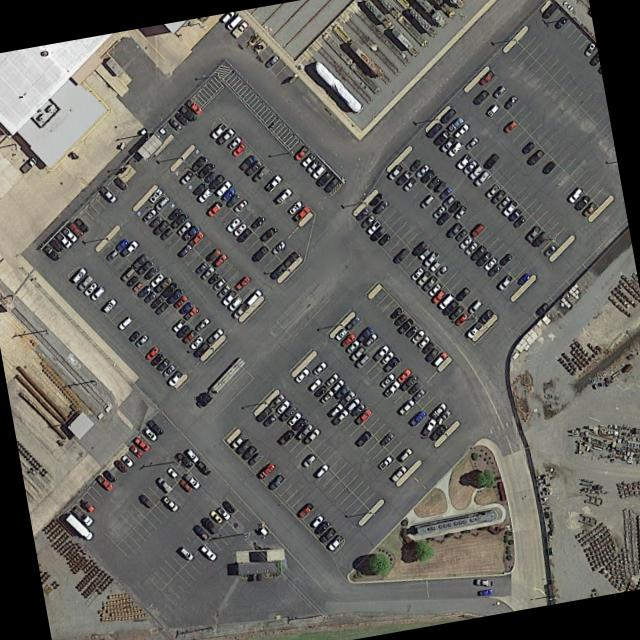large-vehicle: (196, 356, 246, 408), (66, 512, 93, 539), (70, 504, 93, 526)
small-vehicle: (18, 152, 38, 174), (200, 515, 219, 534), (99, 183, 117, 203), (530, 229, 549, 247), (469, 242, 487, 260), (235, 436, 253, 454), (175, 450, 193, 468), (121, 238, 139, 256), (433, 128, 451, 146), (245, 287, 263, 305), (60, 224, 78, 242), (55, 230, 73, 248), (527, 147, 545, 165), (430, 421, 447, 439), (438, 291, 455, 309), (442, 298, 460, 315), (466, 320, 483, 338), (192, 522, 209, 540), (146, 418, 164, 435), (332, 407, 349, 425), (355, 406, 372, 424), (303, 426, 321, 443), (155, 274, 172, 292), (540, 1, 558, 18), (193, 340, 211, 357), (167, 368, 184, 386), (447, 139, 464, 157), (384, 378, 400, 397), (232, 18, 248, 37), (398, 397, 415, 414), (384, 354, 401, 371), (430, 401, 447, 418), (497, 273, 514, 290), (475, 249, 492, 266), (373, 343, 390, 360), (327, 533, 344, 550), (297, 501, 314, 518), (96, 473, 113, 490), (255, 405, 272, 422), (390, 464, 407, 481), (66, 220, 83, 237), (161, 280, 178, 297), (167, 286, 184, 303), (207, 326, 224, 343), (574, 193, 591, 210), (479, 68, 496, 85), (525, 224, 542, 241), (456, 151, 473, 168), (502, 198, 519, 215), (252, 244, 269, 261), (208, 172, 225, 189), (316, 169, 333, 186), (323, 175, 340, 192), (293, 204, 310, 221), (275, 186, 292, 203), (265, 173, 282, 190), (217, 126, 234, 143), (185, 97, 202, 114), (191, 153, 207, 171), (393, 246, 409, 263), (411, 239, 428, 255), (423, 249, 439, 266), (397, 316, 414, 332), (422, 273, 438, 290), (446, 221, 462, 238), (478, 307, 494, 324), (200, 543, 216, 560), (258, 461, 275, 477), (138, 491, 154, 508), (162, 494, 178, 511), (319, 526, 336, 542), (356, 429, 372, 446), (339, 388, 355, 405), (279, 427, 295, 444), (291, 414, 307, 431), (297, 421, 313, 438), (441, 106, 457, 123), (222, 288, 238, 305), (172, 210, 188, 227), (183, 223, 199, 240), (43, 243, 59, 260), (283, 249, 299, 266), (270, 262, 287, 278), (568, 185, 584, 202), (447, 115, 464, 131), (440, 135, 457, 151), (484, 151, 500, 168), (474, 169, 490, 186), (226, 12, 242, 29), (207, 199, 223, 216), (198, 160, 214, 177), (216, 178, 232, 195), (180, 104, 196, 121), (246, 158, 262, 175), (240, 153, 256, 170), (211, 121, 227, 138), (424, 345, 440, 361), (426, 121, 442, 137), (401, 373, 417, 389), (396, 168, 412, 184), (231, 431, 247, 447), (241, 443, 257, 459), (314, 518, 330, 534), (195, 459, 211, 475), (185, 472, 201, 488), (134, 435, 150, 451), (156, 476, 172, 492), (357, 325, 373, 341), (350, 344, 366, 360), (269, 392, 285, 408), (280, 404, 296, 420), (312, 359, 328, 375), (132, 252, 148, 268), (153, 218, 169, 234), (232, 302, 248, 318), (73, 216, 89, 232), (89, 284, 105, 300), (77, 273, 93, 289), (149, 293, 165, 309), (582, 200, 598, 216), (473, 88, 489, 104), (462, 158, 478, 174), (469, 163, 485, 179), (491, 187, 507, 203), (197, 186, 213, 202), (261, 224, 277, 240), (369, 225, 386, 240), (373, 197, 388, 214), (396, 366, 411, 383), (410, 408, 425, 425), (436, 407, 451, 424), (269, 472, 284, 489), (388, 162, 403, 179), (189, 229, 204, 246), (503, 92, 518, 109), (253, 164, 268, 181), (422, 417, 436, 435), (360, 212, 375, 228), (366, 218, 381, 234), (420, 167, 435, 183), (455, 285, 471, 300), (449, 304, 465, 319), (467, 298, 483, 313), (379, 430, 394, 446), (295, 366, 310, 382), (154, 194, 169, 210), (112, 175, 128, 190), (235, 274, 250, 290), (228, 294, 243, 310), (177, 219, 192, 235), (149, 271, 164, 287), (118, 313, 133, 329), (182, 327, 197, 343), (189, 333, 204, 349), (294, 144, 309, 160), (454, 121, 469, 137), (306, 157, 321, 173), (226, 215, 241, 231), (237, 226, 252, 242), (433, 350, 448, 365), (410, 328, 425, 343), (380, 372, 395, 387), (435, 210, 450, 225), (420, 192, 435, 207), (431, 288, 446, 303), (463, 239, 478, 254), (453, 311, 468, 326), (535, 300, 550, 315), (179, 545, 194, 560), (184, 447, 199, 462), (113, 457, 128, 472), (178, 477, 193, 492), (355, 352, 370, 367), (378, 454, 393, 469), (350, 401, 365, 416), (340, 331, 355, 346), (345, 338, 360, 353), (335, 383, 350, 398), (276, 398, 291, 413), (287, 410, 302, 425), (137, 282, 152, 297), (83, 280, 98, 295), (156, 356, 171, 371), (176, 322, 191, 337), (195, 315, 210, 330), (271, 239, 286, 254), (264, 53, 279, 68), (464, 135, 479, 150), (496, 194, 511, 209), (507, 206, 522, 221), (301, 151, 316, 166), (179, 169, 194, 184), (417, 268, 431, 284), (459, 233, 473, 249), (329, 401, 343, 417), (149, 186, 163, 202), (138, 258, 152, 274), (144, 264, 158, 280), (72, 266, 86, 282), (145, 344, 159, 360), (312, 162, 326, 178), (288, 198, 302, 214), (390, 304, 404, 319), (438, 184, 452, 199), (454, 203, 468, 218), (415, 162, 429, 177), (403, 175, 417, 190), (470, 222, 484, 237), (498, 251, 512, 266), (363, 331, 377, 346), (209, 508, 223, 523), (221, 498, 235, 513), (247, 451, 262, 465), (80, 497, 95, 511), (346, 395, 360, 410), (262, 412, 277, 426), (399, 446, 413, 461), (346, 314, 360, 329), (320, 388, 334, 403), (302, 452, 316, 467), (315, 462, 329, 477), (121, 265, 135, 280), (159, 226, 174, 240), (167, 205, 181, 220), (216, 283, 231, 297), (201, 264, 215, 279), (178, 242, 192, 257), (49, 237, 63, 252), (150, 351, 164, 366), (154, 300, 169, 314), (174, 293, 188, 308), (184, 305, 199, 319), (172, 317, 187, 331), (542, 159, 556, 174), (486, 182, 500, 197), (193, 180, 207, 195), (221, 186, 235, 201), (233, 198, 248, 212), (174, 110, 188, 125), (231, 141, 245, 156), (369, 191, 383, 205), (427, 281, 441, 295), (447, 198, 461, 212), (442, 192, 456, 206), (427, 174, 441, 188), (517, 271, 531, 285), (486, 262, 500, 276), (381, 349, 395, 363), (217, 505, 231, 519), (102, 468, 116, 482), (313, 383, 327, 397), (325, 371, 339, 385), (103, 297, 117, 311), (135, 332, 149, 346), (179, 300, 193, 314), (521, 140, 535, 154), (486, 102, 500, 116), (513, 213, 527, 227), (233, 221, 247, 235), (251, 214, 265, 228), (168, 116, 182, 130), (128, 443, 143, 456), (331, 377, 344, 392), (309, 376, 322, 391), (162, 362, 175, 377), (355, 206, 369, 219), (410, 266, 424, 279), (418, 246, 431, 260), (412, 386, 425, 400), (455, 227, 468, 241), (432, 204, 446, 217), (484, 255, 497, 269), (311, 513, 324, 527), (144, 426, 157, 440), (335, 326, 348, 340), (143, 207, 156, 221), (115, 236, 128, 250), (207, 270, 220, 284), (212, 276, 225, 290), (214, 252, 228, 265), (208, 246, 221, 260), (203, 170, 217, 183), (226, 192, 239, 206), (228, 135, 242, 148), (378, 232, 391, 245), (417, 334, 430, 347), (421, 340, 434, 353), (408, 380, 421, 393), (405, 324, 418, 337), (435, 263, 448, 276), (149, 214, 162, 227), (126, 273, 139, 286), (195, 260, 208, 273), (144, 289, 157, 302), (503, 119, 516, 132), (493, 84, 506, 97), (543, 243, 556, 256), (409, 157, 421, 171), (394, 312, 406, 325), (121, 453, 133, 466), (105, 248, 118, 260), (554, 15, 566, 28), (584, 41, 595, 55), (429, 259, 441, 271), (166, 466, 178, 478), (128, 329, 140, 341), (475, 577, 492, 585), (436, 179, 447, 191), (132, 280, 143, 291), (478, 587, 493, 595)
